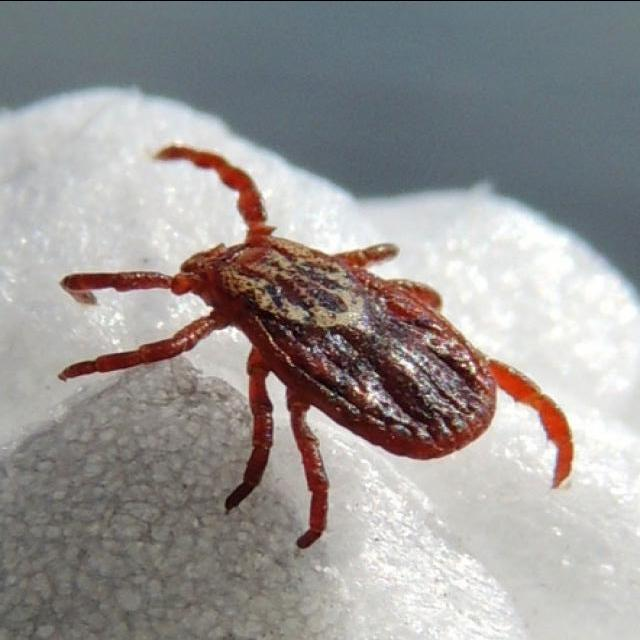Dermacentor Reticulatus-F: (56, 150, 572, 538)
